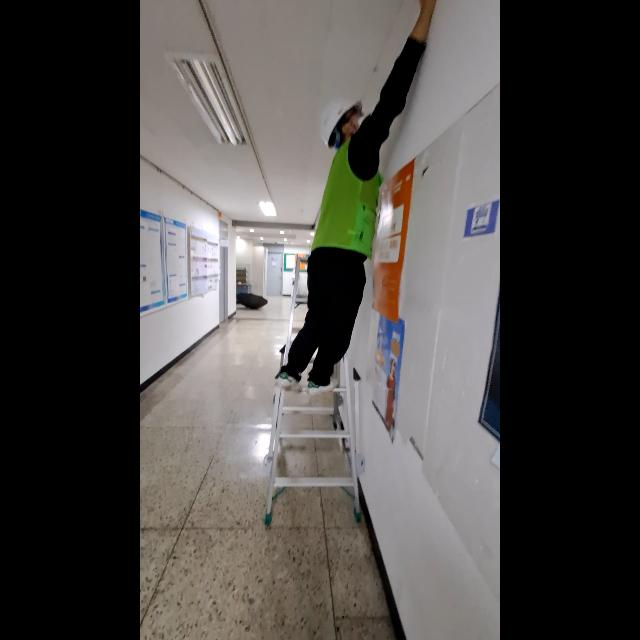hard hat: (264, 248, 381, 532)
